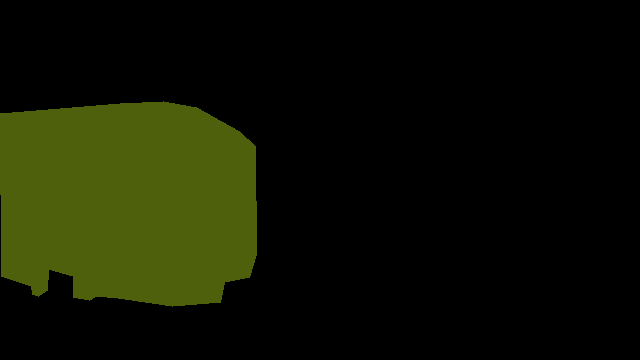Train: (0, 101, 256, 307)
